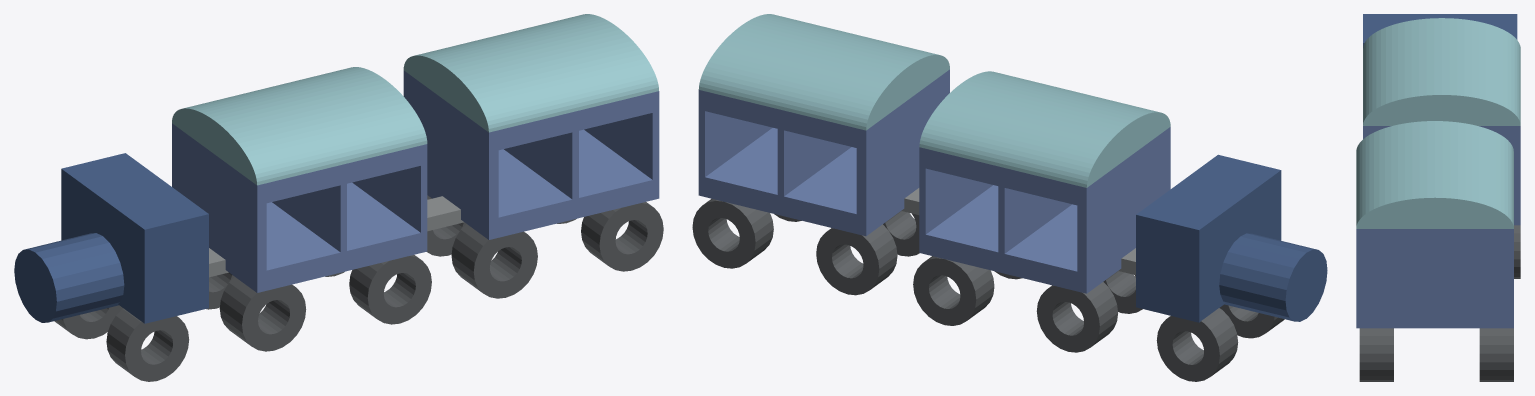
The model's file is project150.glb.
The picture shows the model from 3 angles, left to right: view 1: azimuth 30°, elevation 25°; view 2: azimuth 150°, elevation 25°; view 3: azimuth 270°, elevation 25°; orthographic projection. The views are drawn at different scales.
Visible parts, largest first — view 1: Mesh_Mesh_head_geo.001_lambert2SG.001; view 2: Mesh_Mesh_head_geo.001_lambert2SG.001; view 3: Mesh_Mesh_head_geo.001_lambert2SG.001.
Boxes of the visible parts, x1,y1,x2,y2 form: Mesh_Mesh_head_geo.001_lambert2SG.001: (14,14,663,381); Mesh_Mesh_head_geo.001_lambert2SG.001: (692,14,1327,381); Mesh_Mesh_head_geo.001_lambert2SG.001: (1356,14,1520,381).
Size of the model in its own units: 182 by 62 by 48.
